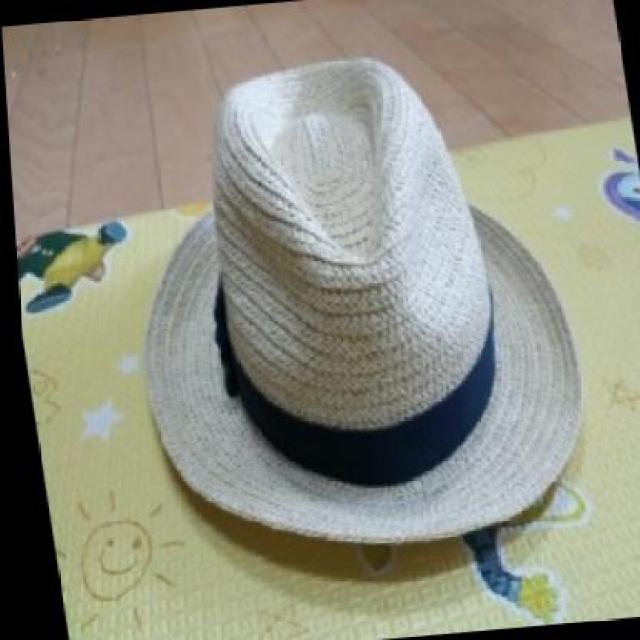hat: (93, 33, 601, 572)
